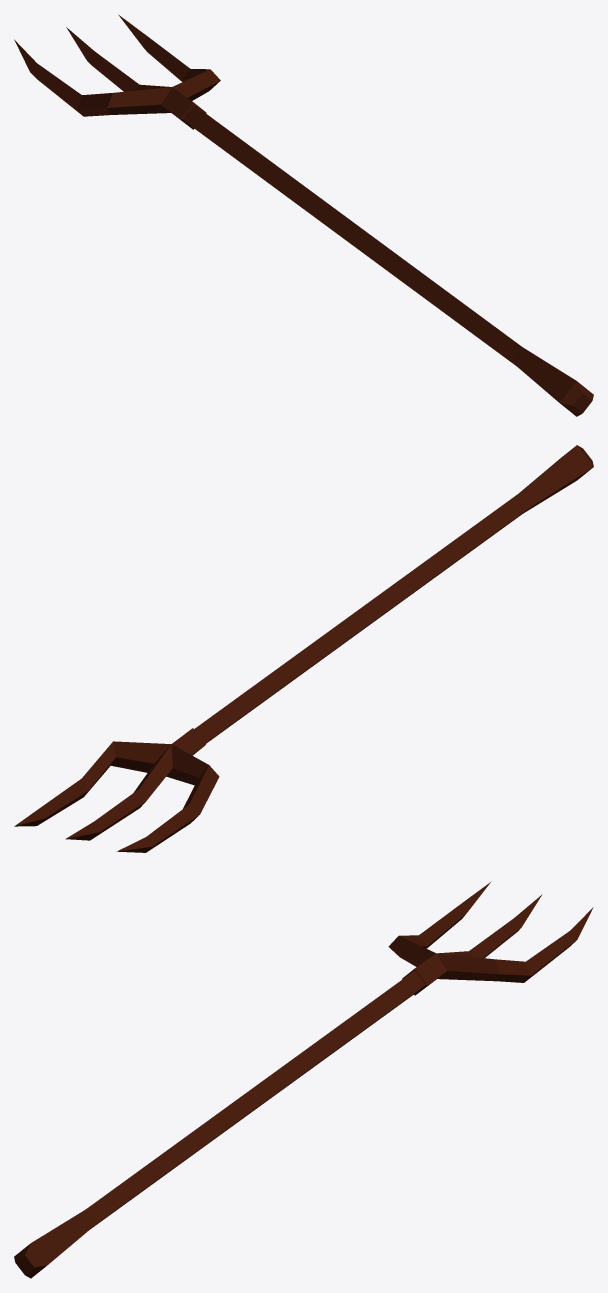
Rendered from Pitchfork.glb.
The picture shows the model from 3 angles, top to bottom: view 1: azimuth 30°, elevation 25°; view 2: azimuth 150°, elevation 25°; view 3: azimuth 330°, elevation 25°; orthographic projection.
Parts seen in each view (by area): view 1: Pitchfork; view 2: Pitchfork; view 3: Pitchfork.
Part boxes in pixels (x1=…): Pitchfork: x1=14, y1=14, x2=593, y2=416; Pitchfork: x1=14, y1=445, x2=593, y2=852; Pitchfork: x1=14, y1=881, x2=593, y2=1278.
Bounding box in the file's own units: 31.27 × 11.15 × 226.
